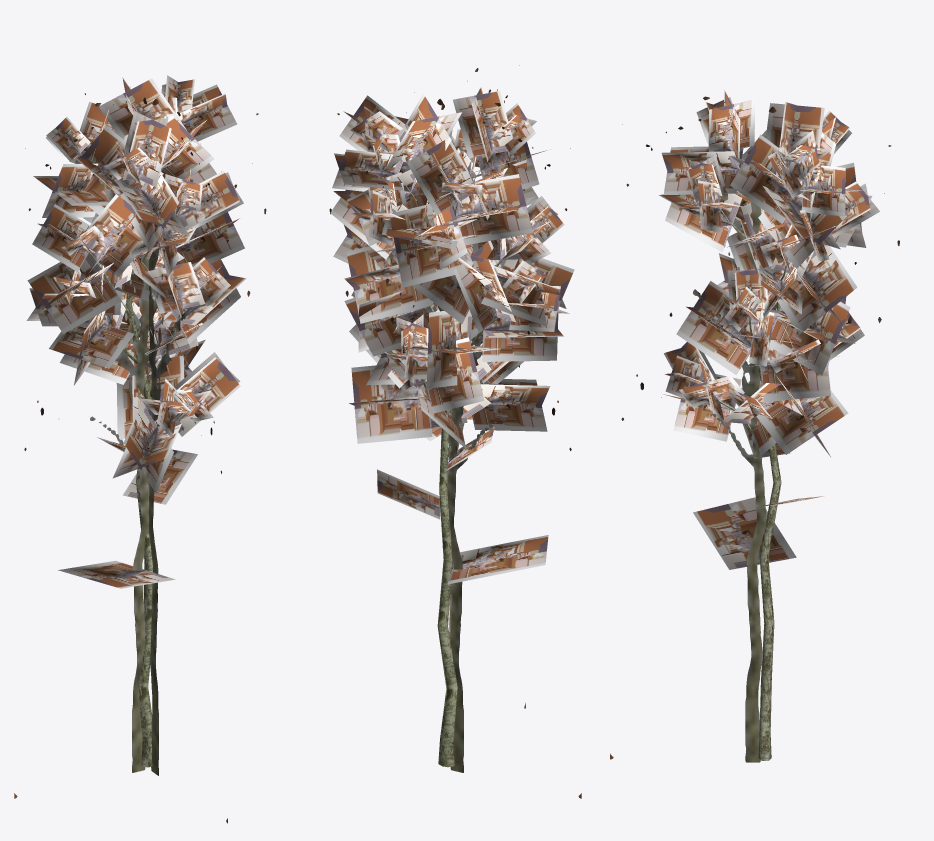
The model's file is Tree-Beech0D-mobile.fbx.
3 renders of one model, left to right at view 1: azimuth 30°, elevation 25°; view 2: azimuth 150°, elevation 25°; view 3: azimuth 270°, elevation 25°, orthographic.
Parts seen in each view (by area): view 1: Tree-Beech0D-mobile_LOD0, Billboard-BeechD; view 2: Tree-Beech0D-mobile_LOD0, Billboard-BeechD; view 3: Tree-Beech0D-mobile_LOD0, Billboard-BeechD.
Boxes of the visible parts, x1,y1,x2,y2 form: Tree-Beech0D-mobile_LOD0: (26, 75, 246, 767); Billboard-BeechD: (14, 92, 266, 823); Tree-Beech0D-mobile_LOD0: (330, 87, 574, 767); Billboard-BeechD: (329, 65, 581, 798); Tree-Beech0D-mobile_LOD0: (659, 89, 879, 760); Billboard-BeechD: (610, 96, 899, 762).
Size of what is drawn, in the model's own units: 1071 by 2649 by 1088.
